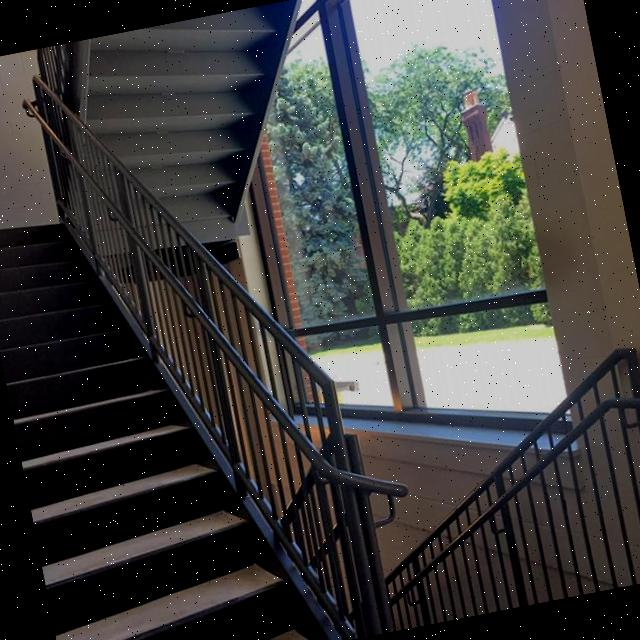stairs: (0, 177, 331, 640)
